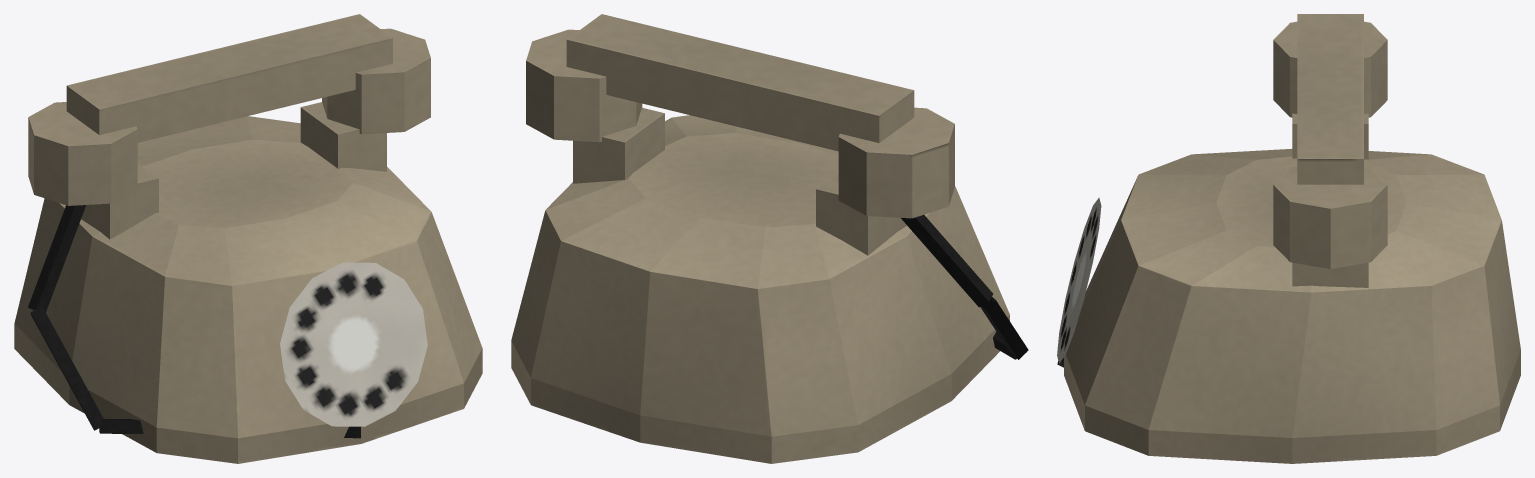
Rendered from Phone_Rotary.fbx.
3 renders of one model, left to right at view 1: azimuth 30°, elevation 25°; view 2: azimuth 150°, elevation 25°; view 3: azimuth 270°, elevation 25°, orthographic. The views are drawn at different scales.
Visible parts, largest first — view 1: телефон звонилка; view 2: телефон звонилка; view 3: телефон звонилка.
Boxes of the visible parts, x1,y1,x2,y2 form: телефон звонилка: (14,14,482,463); телефон звонилка: (511,14,1028,463); телефон звонилка: (1057,14,1520,463).
Size of the model in its own units: 0.2547 by 0.1675 by 0.2436.
1 material, 1 textured.
